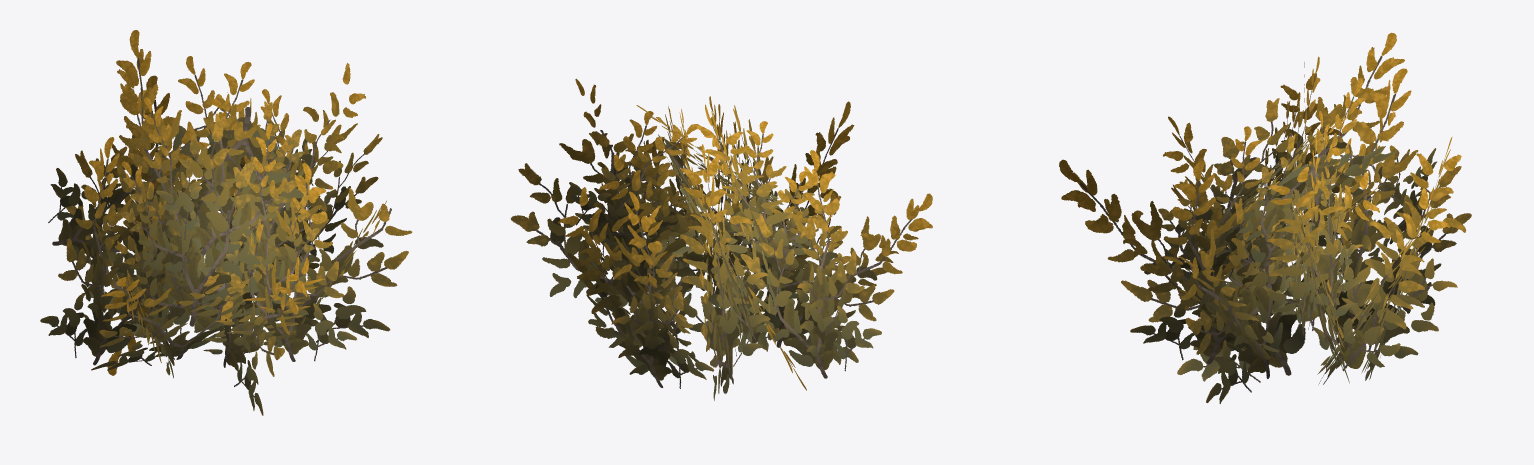
Rendered from SM_DesertBush03.fbx.
3 views of the same model, side by side, from view 1: azimuth 30°, elevation 25°; view 2: azimuth 150°, elevation 25°; view 3: azimuth 270°, elevation 25° (orthographic). The views are drawn at different scales.
Parts seen in each view (by area): view 1: SM_DesertBush03; view 2: SM_DesertBush03; view 3: SM_DesertBush03.
Boxes of the visible parts, <box> form: SM_DesertBush03: <box>40,30,412,415</box>; SM_DesertBush03: <box>510,78,932,400</box>; SM_DesertBush03: <box>1059,32,1471,403</box>.
Bounding box in the file's own units: 425 × 379 × 416.
